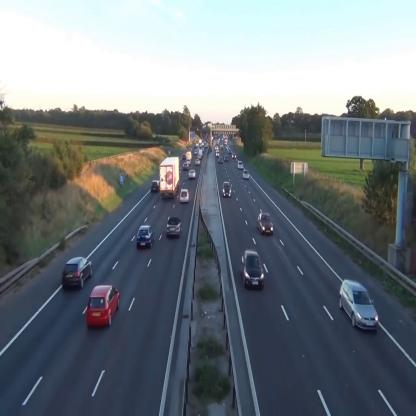car: (339, 280, 379, 330), (86, 284, 121, 328), (62, 256, 92, 289), (241, 251, 264, 289), (137, 226, 155, 248), (257, 213, 273, 234), (167, 216, 182, 238), (180, 188, 190, 204), (223, 182, 231, 195), (151, 179, 159, 191), (188, 170, 196, 178), (183, 162, 189, 170), (243, 170, 249, 178), (238, 161, 244, 168), (195, 158, 200, 166), (186, 152, 191, 158), (218, 157, 223, 163), (232, 152, 236, 159), (216, 150, 220, 156), (224, 155, 228, 161)
lorry: (160, 157, 182, 197)
